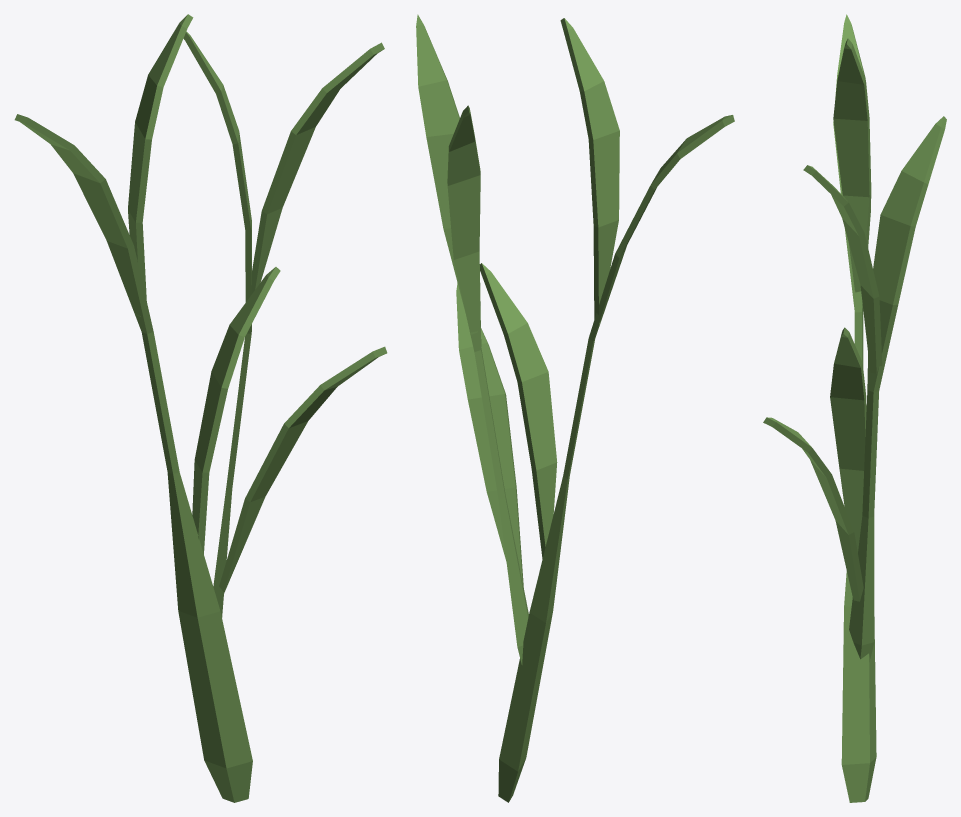
Rendered from Rice_2.gltf.
The picture shows the model from 3 angles, left to right: view 1: azimuth 30°, elevation 25°; view 2: azimuth 150°, elevation 25°; view 3: azimuth 270°, elevation 25°; orthographic projection. The views are drawn at different scales.
Visible parts, largest first — view 1: Rice_2; view 2: Rice_2; view 3: Rice_2.
Boxes of the visible parts, box(x1,y1,x2,y2) form: Rice_2: box(14, 14, 387, 802); Rice_2: box(416, 14, 734, 802); Rice_2: box(763, 14, 946, 802).
Size of the model in its own units: 0.2547 by 0.5648 by 0.1272.
